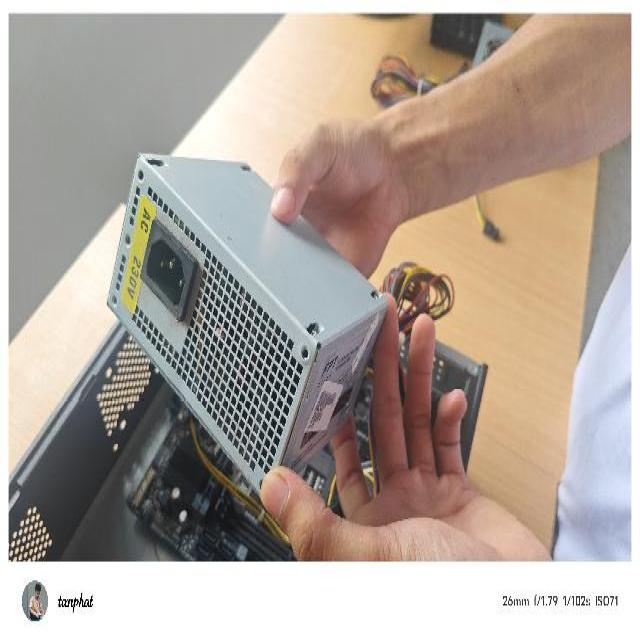PSU: (108, 144, 388, 502)
